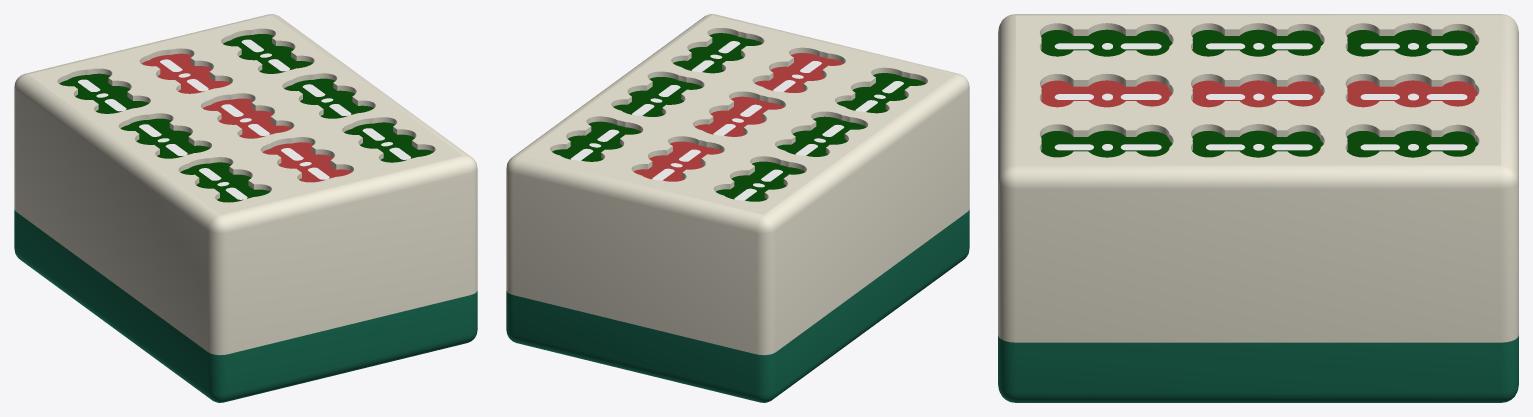
The model's file is Sou9.glb.
The picture shows the model from 3 angles, left to right: view 1: azimuth 30°, elevation 25°; view 2: azimuth 150°, elevation 25°; view 3: azimuth 270°, elevation 25°; orthographic projection. The views are drawn at different scales.
Parts seen in each view (by area): view 1: Sou9_body, Sou9_inset; view 2: Sou9_body, Sou9_inset; view 3: Sou9_body, Sou9_inset.
Boxes of the visible parts, x1,y1,x2,y2 form: Sou9_body: [14, 14, 477, 402]; Sou9_inset: [59, 34, 433, 202]; Sou9_body: [506, 14, 969, 402]; Sou9_inset: [552, 33, 925, 201]; Sou9_body: [998, 14, 1518, 402]; Sou9_inset: [1041, 29, 1478, 157].
Bounding box in the file's own units: 0.024 × 0.016 × 0.032.
